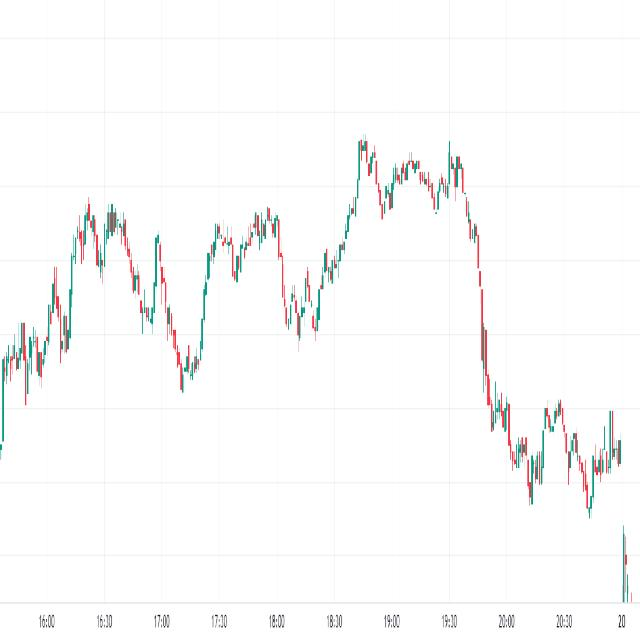Double-Top: (67, 170, 141, 353), (355, 114, 381, 205), (448, 130, 468, 203)
